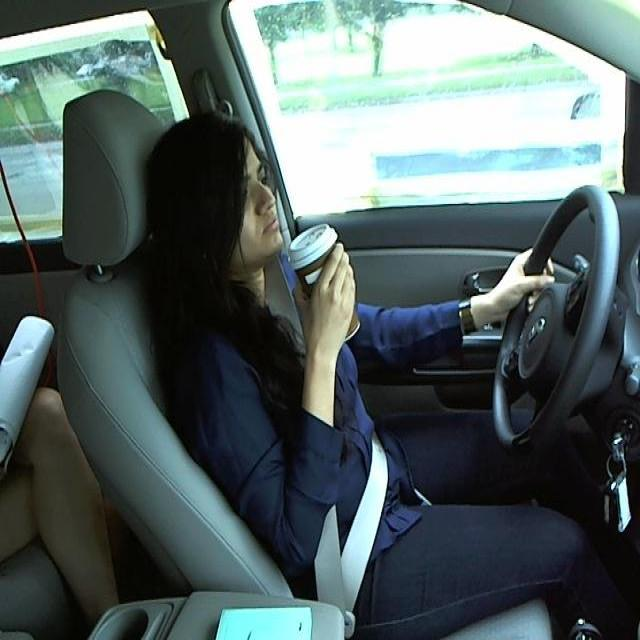drinking: (287, 219, 367, 342)
